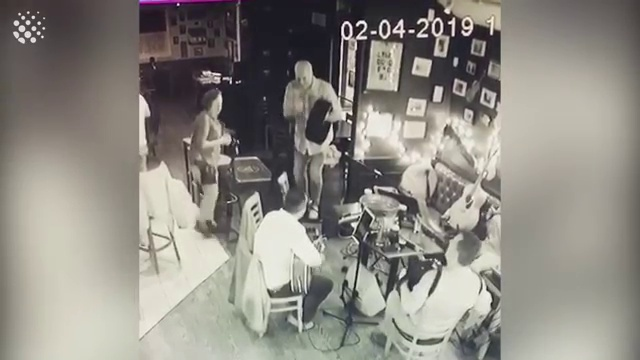face: (297, 73, 309, 90)
